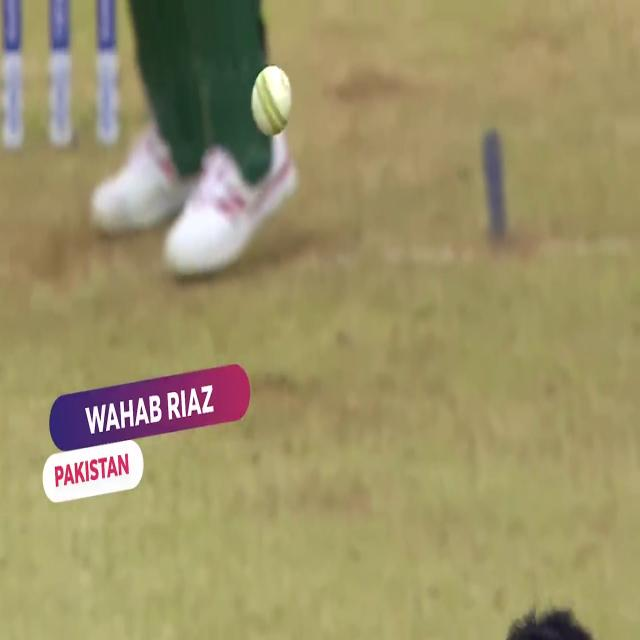ball: (248, 57, 298, 145)
